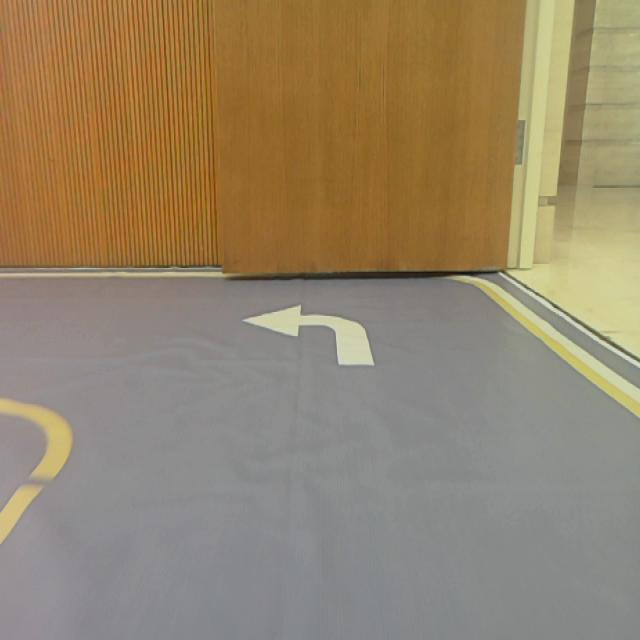left_lane: (0, 443, 69, 546)
right_lane: (481, 285, 640, 417)
